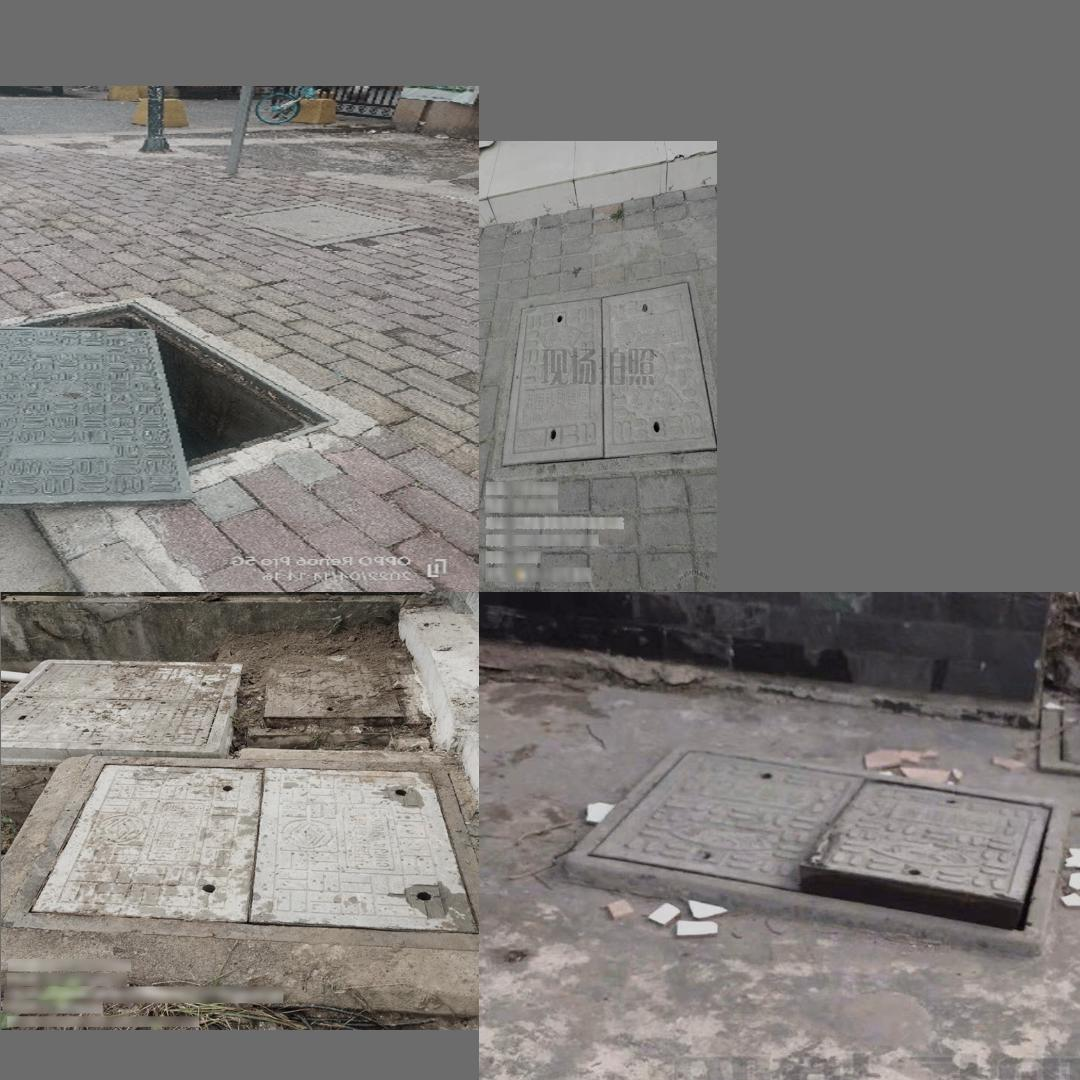good: (1, 755, 479, 950), (490, 274, 717, 480), (1, 659, 243, 758), (220, 201, 429, 247), (1037, 688, 1080, 787)
uncovered: (562, 746, 1070, 954), (0, 292, 374, 512)
